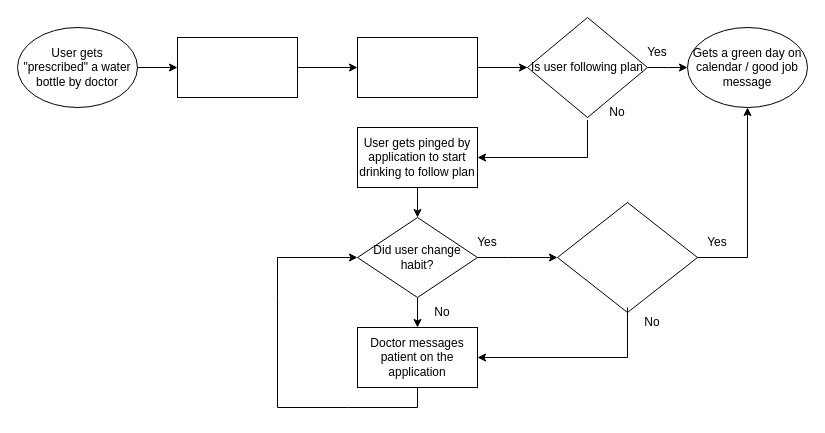
The diagram is 825 pixels wide and 433 high, and some of its shapes have lost their labels. The shapes that lost their labels are listed below. From the top down, each one's centre as x and y in pixels, then its label:
At point 237,67: "Doctor creates hydration plan for user".
At point 417,67: "User signs into application and sees how much water they need to drink".
At point 627,257: "Is user on track to finish".
